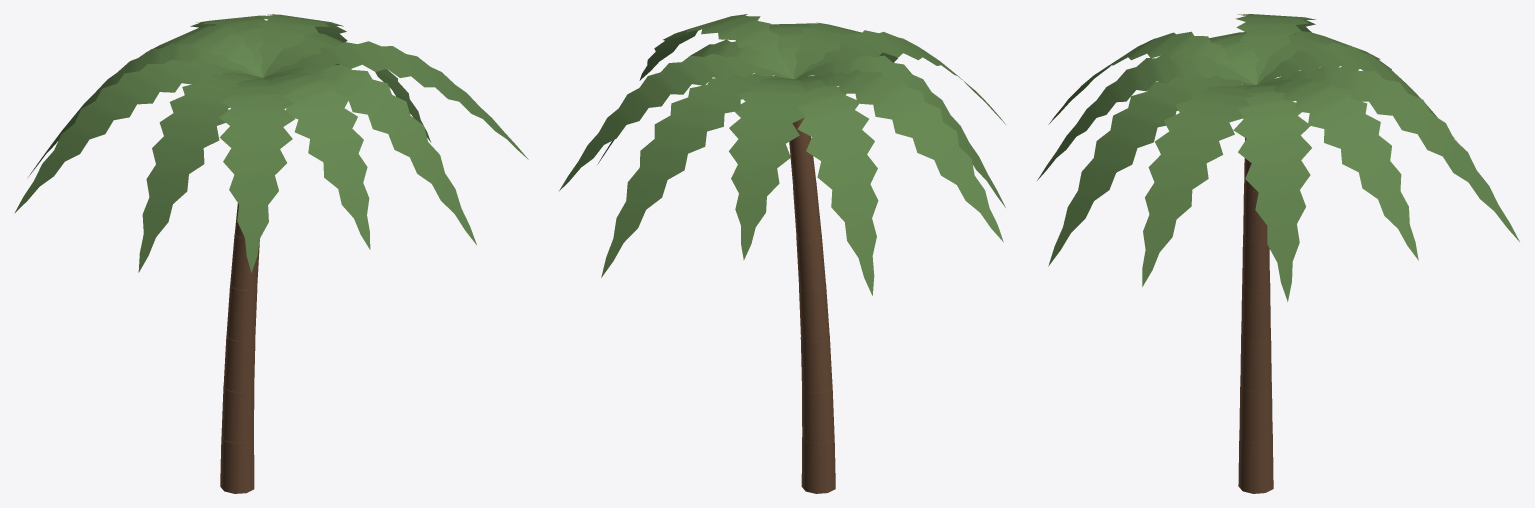
Rendered from coastal-palm.glb.
3 renders of one model, left to right at view 1: azimuth 30°, elevation 25°; view 2: azimuth 150°, elevation 25°; view 3: azimuth 270°, elevation 25°, orthographic. The views are drawn at different scales.
Visible parts, largest first — view 1: Foliage, Trunk; view 2: Foliage, Trunk; view 3: Foliage, Trunk.
Part boxes in pixels (x1,y1,x2,y2): Foliage: [14, 14, 528, 272]; Trunk: [220, 77, 259, 493]; Foliage: [559, 14, 1005, 295]; Trunk: [789, 117, 835, 493]; Foliage: [1037, 14, 1519, 301]; Trunk: [1238, 138, 1273, 493].
Size of the model in its own units: 6.65 by 6.09 by 6.16.
